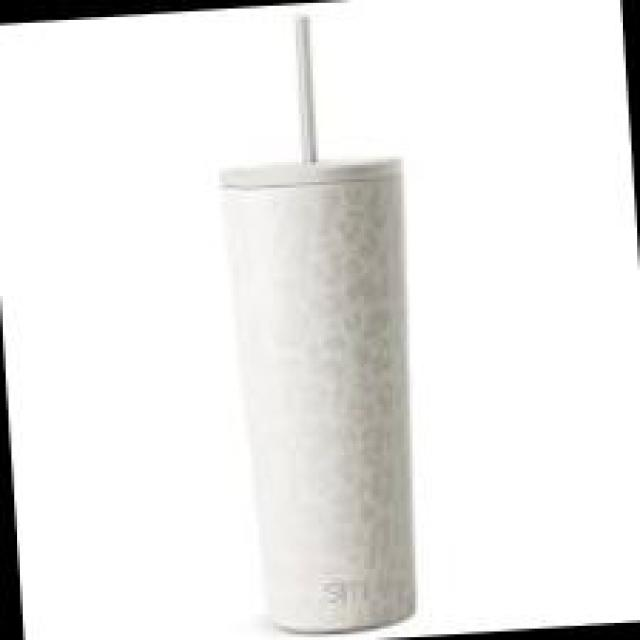bottle: (208, 7, 438, 639)
